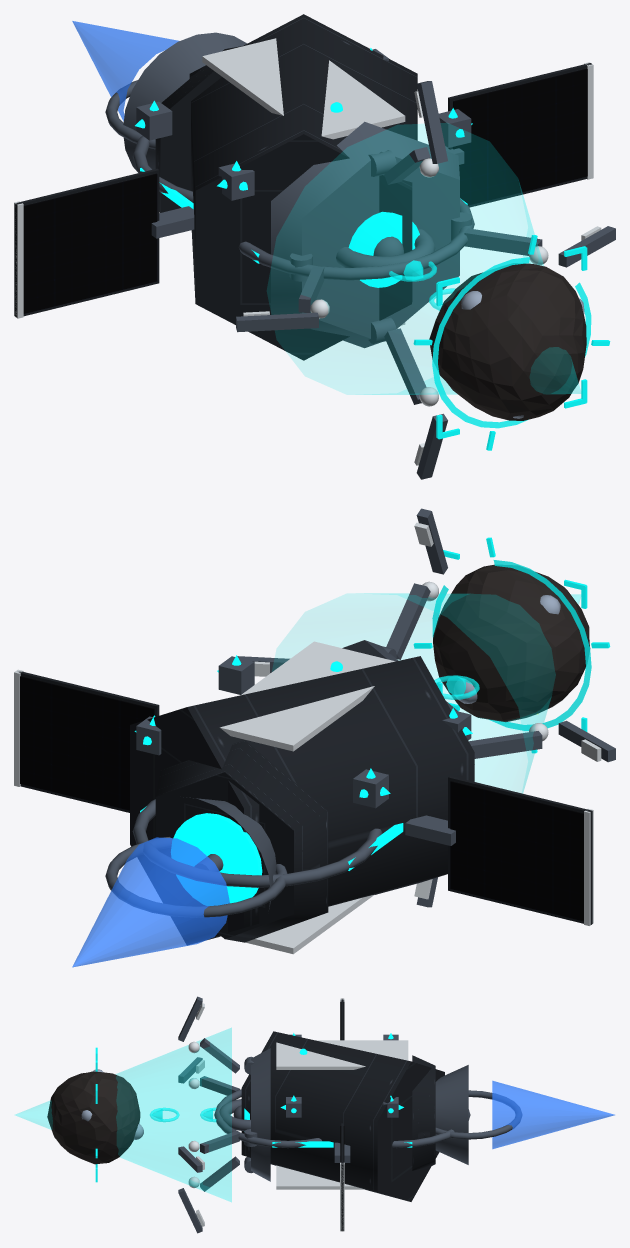
The model's file is scale-extraction-drone-debry.glb.
3 views of the same model, one above another, from view 1: azimuth 30°, elevation 25°; view 2: azimuth 150°, elevation 25°; view 3: azimuth 270°, elevation 25° (orthographic). The views are drawn at different scales.
Visible parts, largest first — view 1: CaptureMechanism, CentralChassis, SolarWings, object 36, MainIonThruster, RCSPods, object 20, object 5, object 7, object 9, object 3; view 2: CentralChassis, MainIonThruster, SolarWings, CaptureMechanism, object 36, RCSPods, object 20, object 5, object 7; view 3: CentralChassis, CaptureMechanism, MainIonThruster, object 36, SolarWings, RCSPods, object 5, object 9.
Boxes of the visible parts, x1,y1,x2,y2 form: CaptureMechanism: (267,121,581,406); CentralChassis: (132,14,474,360); SolarWings: (14,62,593,318); object 36: (429,263,586,420); MainIonThruster: (72,21,246,212); RCSPods: (135,48,472,200); object 20: (432,257,591,428); object 5: (416,81,447,163); object 7: (236,312,318,332); object 9: (416,413,447,479); object 3: (558,226,615,267); CentralChassis: (130,641,474,954); MainIonThruster: (72,740,328,967); SolarWings: (14,669,593,925); CaptureMechanism: (272,581,580,793); object 36: (433,564,590,722); RCSPods: (134,655,472,808); object 20: (432,560,591,730); object 5: (416,508,447,574); object 7: (558,720,615,762); CentralChassis: (214,1031,470,1201); CaptureMechanism: (15,1028,270,1201); MainIonThruster: (412,1055,614,1170); object 36: (47,1071,140,1164); SolarWings: (334,998,350,1231); RCSPods: (280,1033,403,1117); object 5: (178,996,202,1041); object 9: (178,1188,202,1233).
Bounding box in the file's own units: 2.02 × 1.33 × 3.1.
Materials: 32 (2 with a texture image).
